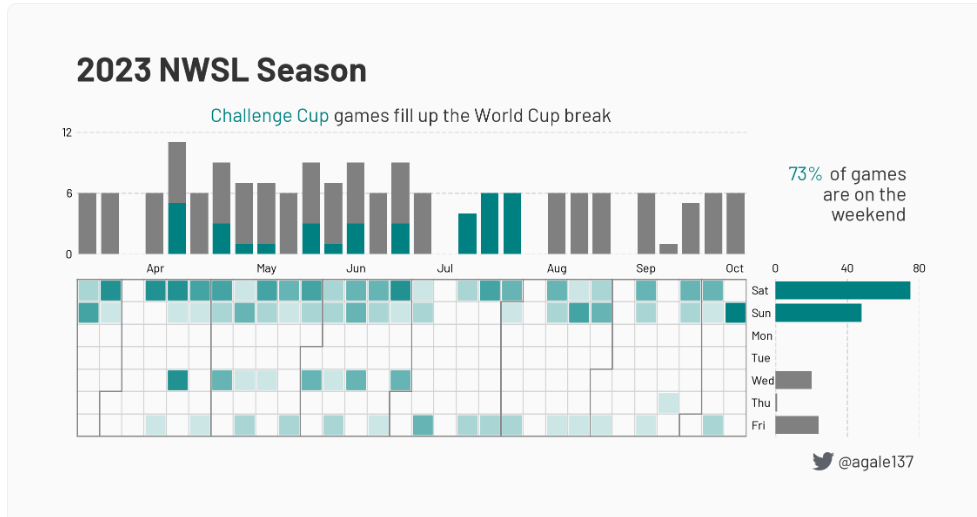

This screenshot's page, from the dashboard's own definition file:
{"tool":"tableau","page":{"name":"Dashboard 1","canvas":[1000,800],"ordinal":0},"visuals":[{"type":"text","box":[45,22,233,35]},{"type":"text","box":[762,36,170,90]},{"type":"text","box":[86,58,551,36]},{"type":"worksheet","title":"games fill up the World Cup Break","mark":"Bar","cols":["date"],"box":[10,72,700,315]},{"type":"worksheet","title":"games by weekday","mark":"Bar","rows":["date"],"box":[690,150,306,293]},{"type":"worksheet","title":"games by day","mark":"Square","rows":["date"],"cols":["date"],"box":[33,413,760,294]}]}

Visuals, with their boxes on the page's 1000x800 design canvas (x1, y1, x2, y2). These are canvas units, not pixel positions in the 977x517 screenshot, which may show the page scaled, cropped or inside an application window:
text: bbox(45, 22, 278, 57)
text: bbox(762, 36, 932, 126)
text: bbox(86, 58, 637, 94)
"games fill up the World Cup Break" worksheet (Bar marks): bbox(10, 72, 710, 387)
"games by weekday" worksheet (Bar marks): bbox(690, 150, 996, 443)
"games by day" worksheet (Square marks): bbox(33, 413, 793, 707)
